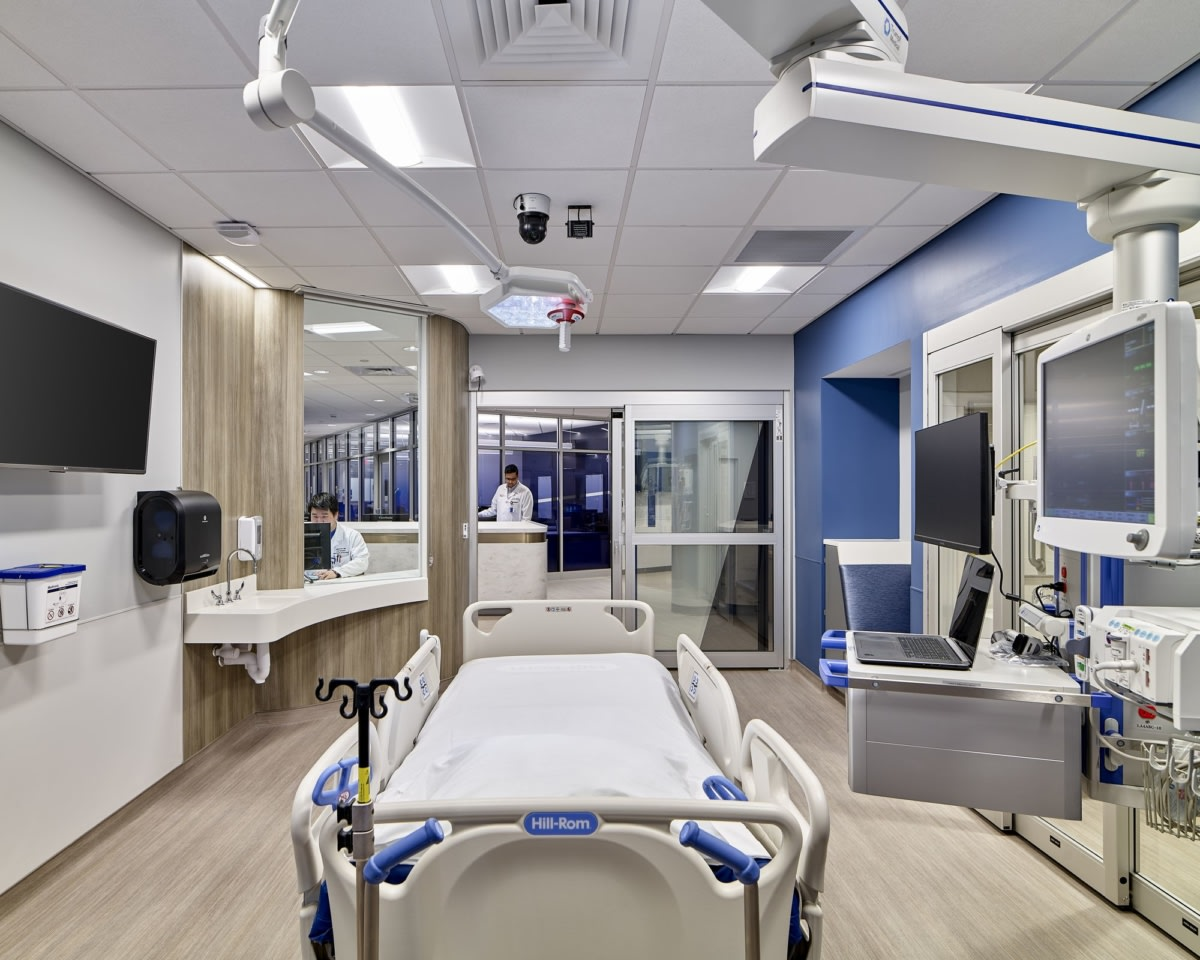TV: (1, 287, 158, 479), (913, 414, 990, 555)
bedrail: (737, 717, 830, 867), (289, 721, 380, 865), (674, 635, 741, 767), (381, 629, 441, 773)
bedside_monitor: (1032, 305, 1200, 567)
computer: (854, 557, 997, 671), (303, 521, 331, 571)
counter: (184, 578, 435, 650), (320, 528, 551, 606)
countertop: (197, 569, 428, 610), (326, 520, 549, 531)
dispenser: (126, 486, 221, 584), (238, 516, 264, 564)
faucet: (208, 547, 259, 601)
foot_board: (462, 596, 655, 654)
hospital_bed: (289, 599, 831, 871)
iv_pole: (315, 670, 412, 960)
sink: (186, 575, 301, 684)
staff: (303, 491, 370, 581), (477, 464, 534, 522)
surgical_light: (480, 266, 594, 354)
